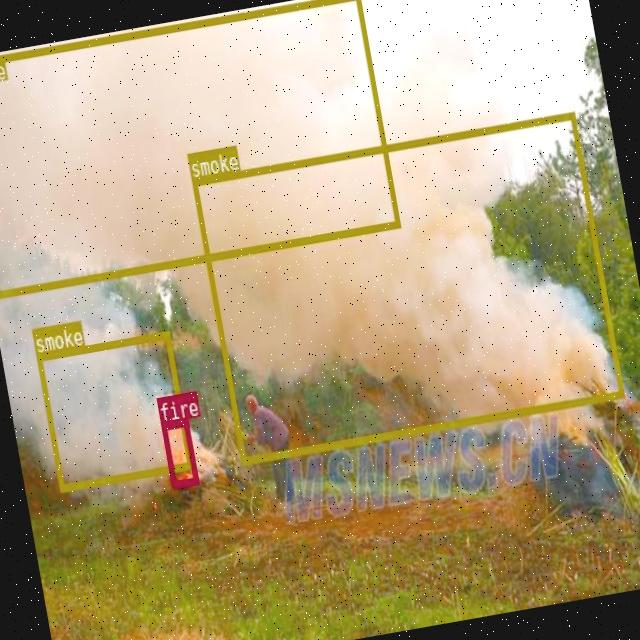fire: (160, 418, 198, 488)
smoke: (190, 111, 622, 464), (0, 0, 398, 297), (35, 331, 192, 491)
